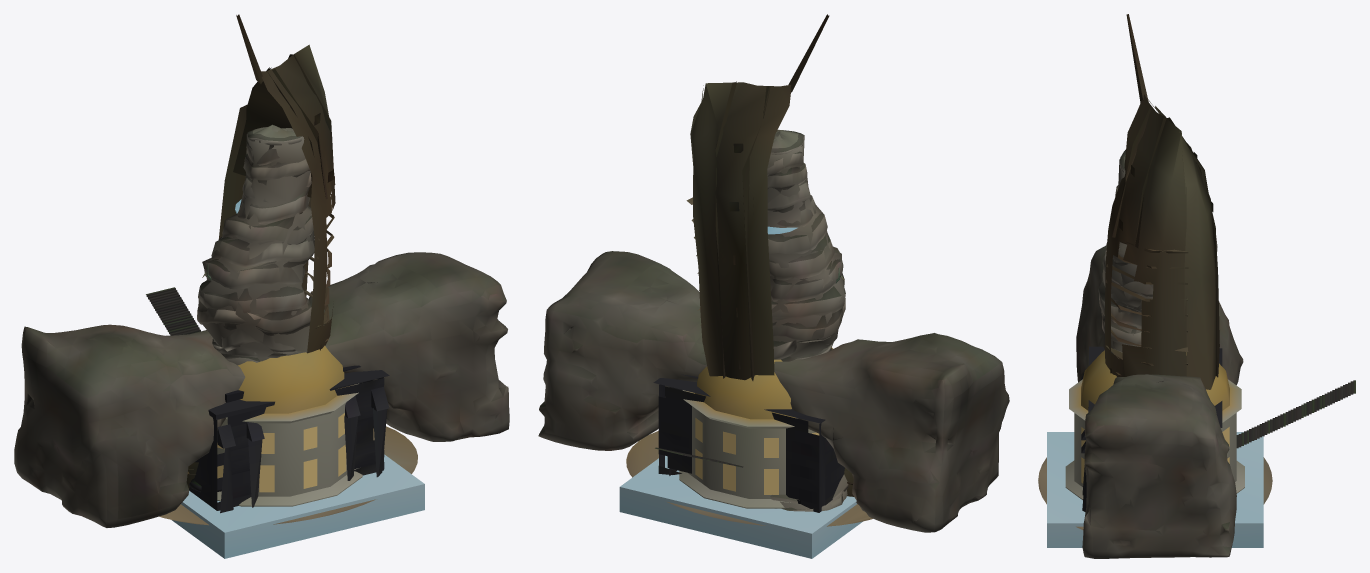
Rendered from props.glb.
3 renders of one model, left to right at view 1: azimuth 30°, elevation 25°; view 2: azimuth 150°, elevation 25°; view 3: azimuth 270°, elevation 25°, orthographic. The views are drawn at different scales.
Parts seen in each view (by area): view 1: sea_arch, kelp_spire, dome_hall__far, wreck_stand__far, forge_hall__far, ice_ceiling__far, kelp_spire__far, arena_floor__far, stair_crown; view 2: sea_arch, wreck_stand__far, dome_hall__far, kelp_spire, ice_ceiling__far, forge_hall__far, kelp_spire__far, arena_floor__far; view 3: sea_arch, wreck_stand__far, ice_ceiling__far, dome_hall__far, kelp_spire, stair_crown, kelp_spire__far, forge_hall__far, arena_floor__far.
Boxes of the visible parts, x1,y1,x2,y2 form: sea_arch: (14, 252, 509, 527); kelp_spire: (197, 124, 314, 365); dome_hall__far: (217, 345, 362, 506); wreck_stand__far: (218, 14, 335, 353); forge_hall__far: (189, 365, 389, 513); ice_ceiling__far: (172, 454, 424, 558); kelp_spire__far: (198, 125, 314, 361); arena_floor__far: (159, 426, 417, 525); stair_crown: (146, 287, 200, 335); sea_arch: (538, 251, 1009, 532); wreck_stand__far: (686, 14, 829, 380); dome_hall__far: (679, 347, 832, 508); kelp_spire: (767, 129, 848, 511); ice_ceiling__far: (619, 455, 862, 558); forge_hall__far: (653, 374, 844, 512); kelp_spire__far: (767, 130, 847, 510); arena_floor__far: (626, 431, 872, 526); sea_arch: (1076, 235, 1243, 558); wreck_stand__far: (1104, 14, 1219, 389); ice_ceiling__far: (1047, 432, 1263, 547); dome_hall__far: (1065, 350, 1244, 499); kelp_spire: (1098, 150, 1153, 354); stair_crown: (1236, 380, 1355, 448); kelp_spire__far: (1101, 149, 1153, 354); forge_hall__far: (1081, 346, 1222, 511); arena_floor__far: (1038, 457, 1272, 529).
Size of the model in its own units: 102 by 118 by 70.45.
